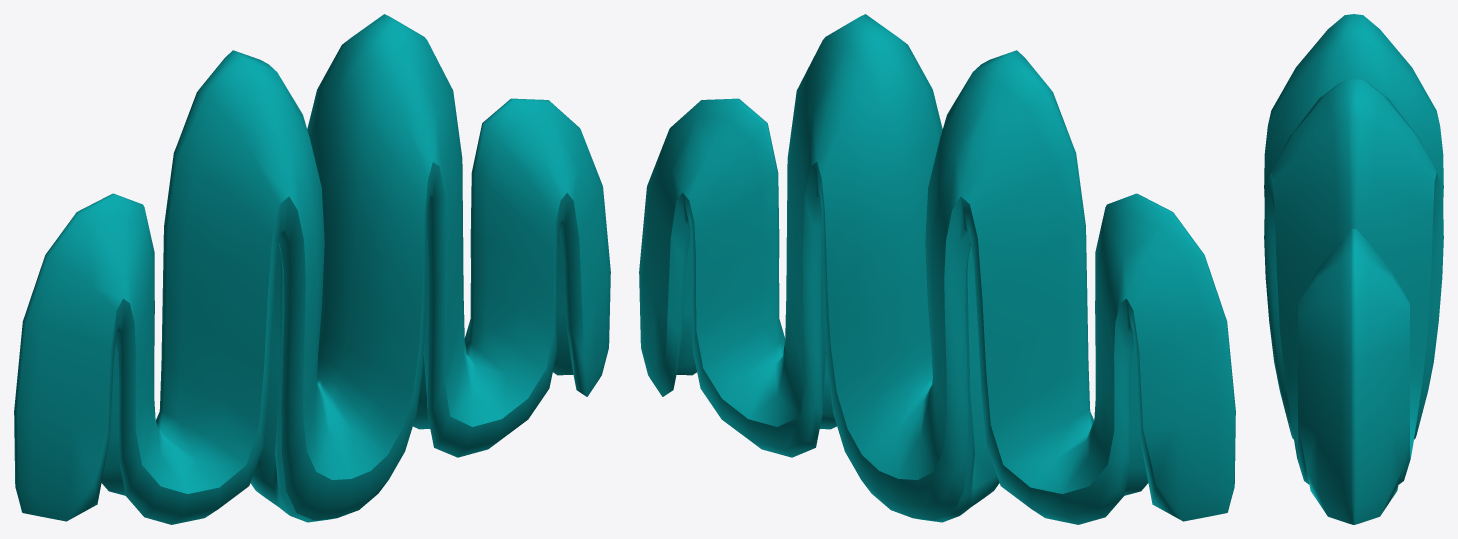
The model's file is Bush 1.glb.
3 renders of one model, left to right at view 1: azimuth 30°, elevation 25°; view 2: azimuth 150°, elevation 25°; view 3: azimuth 270°, elevation 25°, orthographic. The views are drawn at different scales.
Parts seen in each view (by area): view 1: Bush_1; view 2: Bush_1; view 3: Bush_1.
Boxes of the visible parts, <box> form: Bush_1: <box>14,14,610,524</box>; Bush_1: <box>639,14,1235,524</box>; Bush_1: <box>1264,14,1443,524</box>.
Size of the model in its own units: 3.26 by 2.48 by 0.9791.
1 material, 1 textured.
